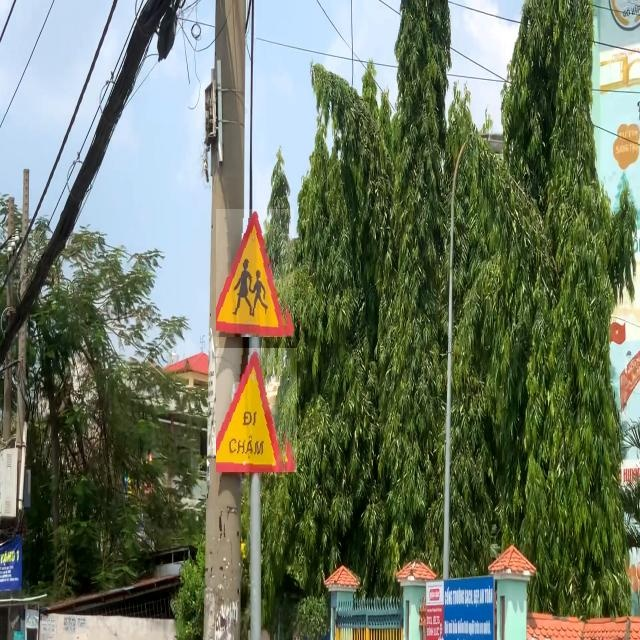bien_nguy_hiem: (216, 348, 297, 472), (216, 209, 294, 337)
